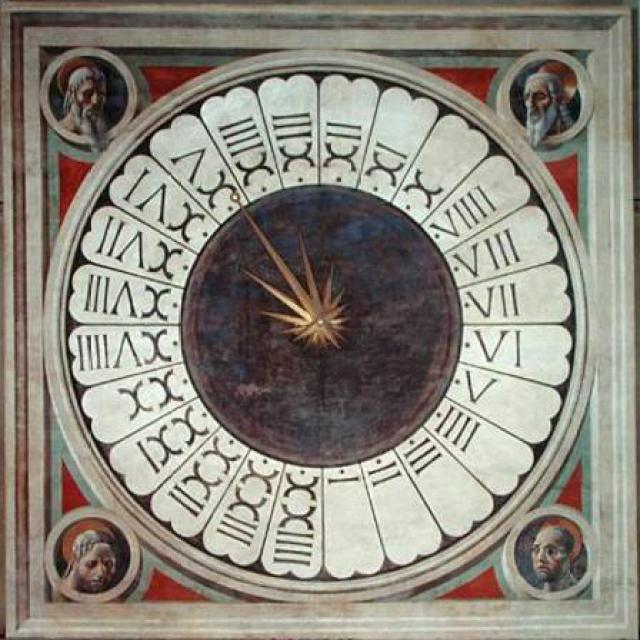clock: (100, 129, 555, 542)
